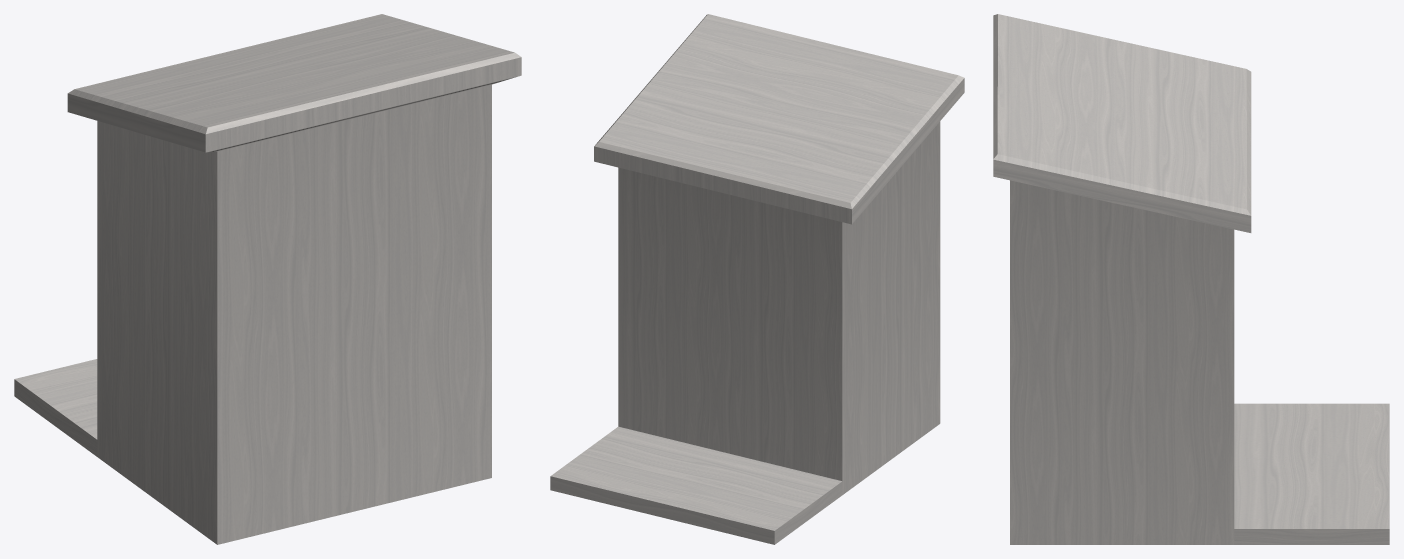
Rendered from Chapel_Podium.fbx.
3 views of the same model, side by side, from view 1: azimuth 30°, elevation 25°; view 2: azimuth 150°, elevation 25°; view 3: azimuth 270°, elevation 25° (orthographic). The views are drawn at different scales.
Parts seen in each view (by area): view 1: Podium; view 2: Podium; view 3: Podium.
Part boxes in pixels (x1,y1,x2,y2): Podium: [14, 14, 521, 544]; Podium: [550, 14, 964, 544]; Podium: [993, 14, 1389, 544].
Size of the model in its own units: 4.61 by 5.94 by 5.36.
1 material, 1 textured.
